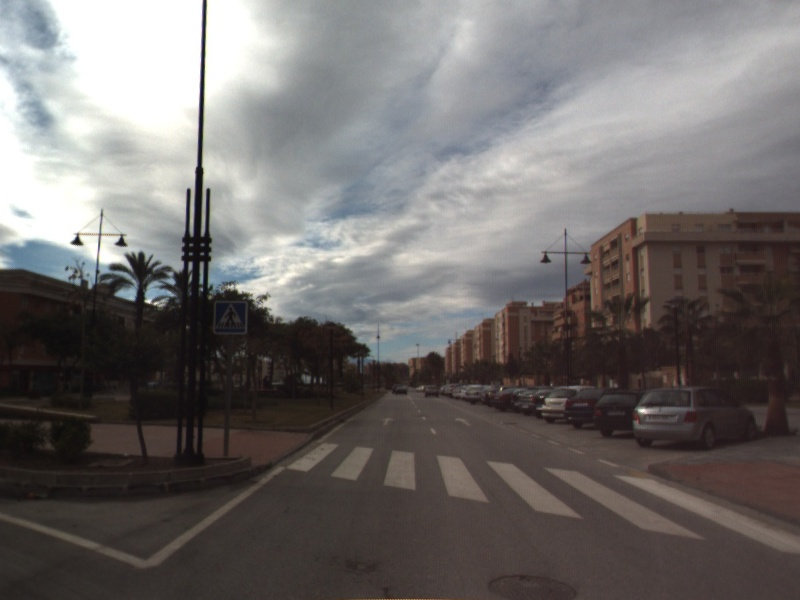STRAIGHT: (453, 415, 473, 427), (379, 415, 396, 427)
